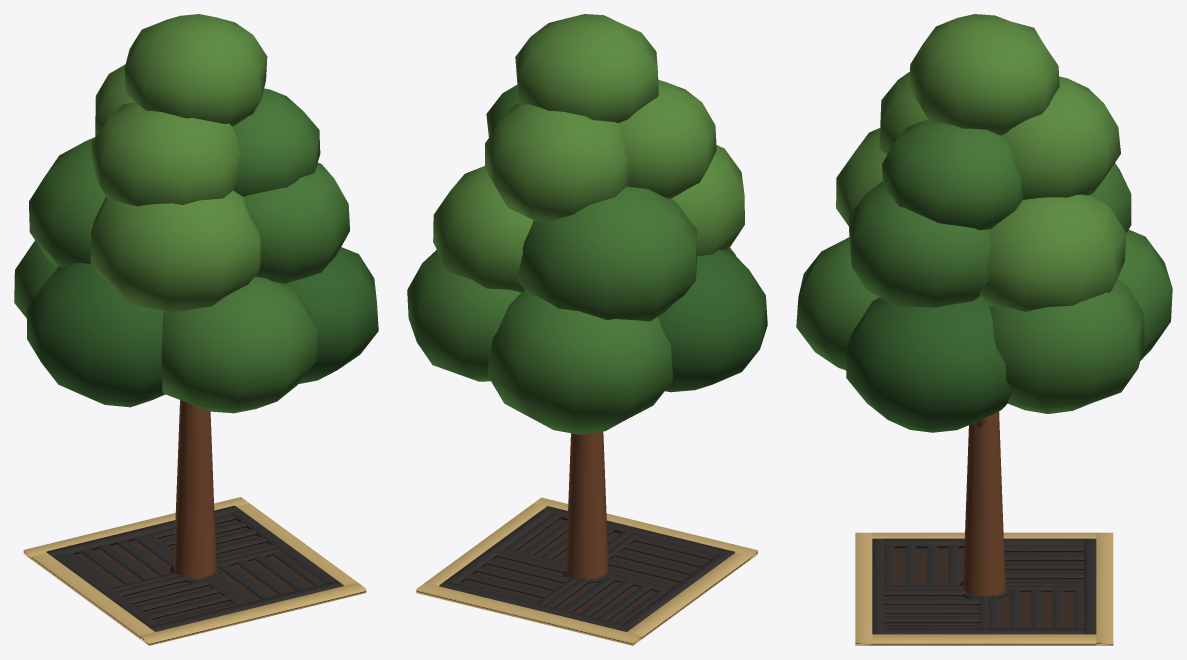
File: street_tree.glb
3 renders of one model, left to right at view 1: azimuth 30°, elevation 25°; view 2: azimuth 150°, elevation 25°; view 3: azimuth 270°, elevation 25°, orthographic. The views are drawn at different scales.
Visible parts, largest first — view 1: Crown02, Crown10, Crown01, Crown30, Crown20, Crown11, Crown03, Crown21, Crown13, Trunk, PitSoil, PitKerb1 (+22 smaller); view 2: Crown00, Crown13, Crown22, Crown30, Crown01, Crown04, Crown12, Crown20, Trunk, Crown10, PitSoil, PitKerb0 (+22 smaller); view 3: Crown03, Crown04, Crown30, Crown12, Crown11, Crown21, Crown22, Trunk, Crown02, PitSoil, Crown00, PitKerb2 (+19 smaller).
Boxes of the visible parts, x1=… form: Crown02: x1=161, y1=276, x2=316, y2=413; Crown10: x1=90, y1=190, x2=260, y2=312; Crown01: x1=27, y1=262, x2=164, y2=407; Crown30: x1=124, y1=14, x2=267, y2=126; Crown20: x1=91, y1=102, x2=239, y2=206; Crown11: x1=243, y1=162, x2=349, y2=283; Crown03: x1=287, y1=247, x2=378, y2=383; Crown21: x1=232, y1=88, x2=320, y2=196; Crown13: x1=29, y1=137, x2=105, y2=267; Trunk: x1=173, y1=400, x2=216, y2=578; PitSoil: x1=75, y1=520, x2=313, y2=621; PitKerb1: x1=141, y1=582, x2=366, y2=645; Crown00: x1=487, y1=291, x2=672, y2=434; Crown13: x1=518, y1=186, x2=697, y2=321; Crown22: x1=485, y1=103, x2=628, y2=221; Crown30: x1=515, y1=14, x2=658, y2=123; Crown01: x1=658, y1=249, x2=767, y2=392; Crown04: x1=407, y1=250, x2=521, y2=381; Crown12: x1=433, y1=166, x2=533, y2=292; Crown20: x1=618, y1=80, x2=716, y2=198; Trunk: x1=565, y1=431, x2=608, y2=578; Crown10: x1=671, y1=145, x2=744, y2=256; PitSoil: x1=463, y1=519, x2=709, y2=622; PitKerb0: x1=416, y1=583, x2=641, y2=645; Crown03: x1=846, y1=296, x2=1012, y2=432; Crown04: x1=988, y1=279, x2=1144, y2=413; Crown30: x1=909, y1=14, x2=1059, y2=135; Crown12: x1=979, y1=193, x2=1126, y2=311; Crown11: x1=848, y1=181, x2=991, y2=307; Crown21: x1=882, y1=119, x2=1023, y2=230; Crown22: x1=1002, y1=76, x2=1120, y2=199; Trunk: x1=963, y1=411, x2=1005, y2=596; Crown02: x1=796, y1=237, x2=879, y2=370; PitSoil: x1=884, y1=548, x2=1083, y2=628; Crown00: x1=1117, y1=229, x2=1172, y2=360; PitKerb2: x1=872, y1=634, x2=1096, y2=645.
Size of the model in its own units: 2.17 by 3.64 by 2.19.
